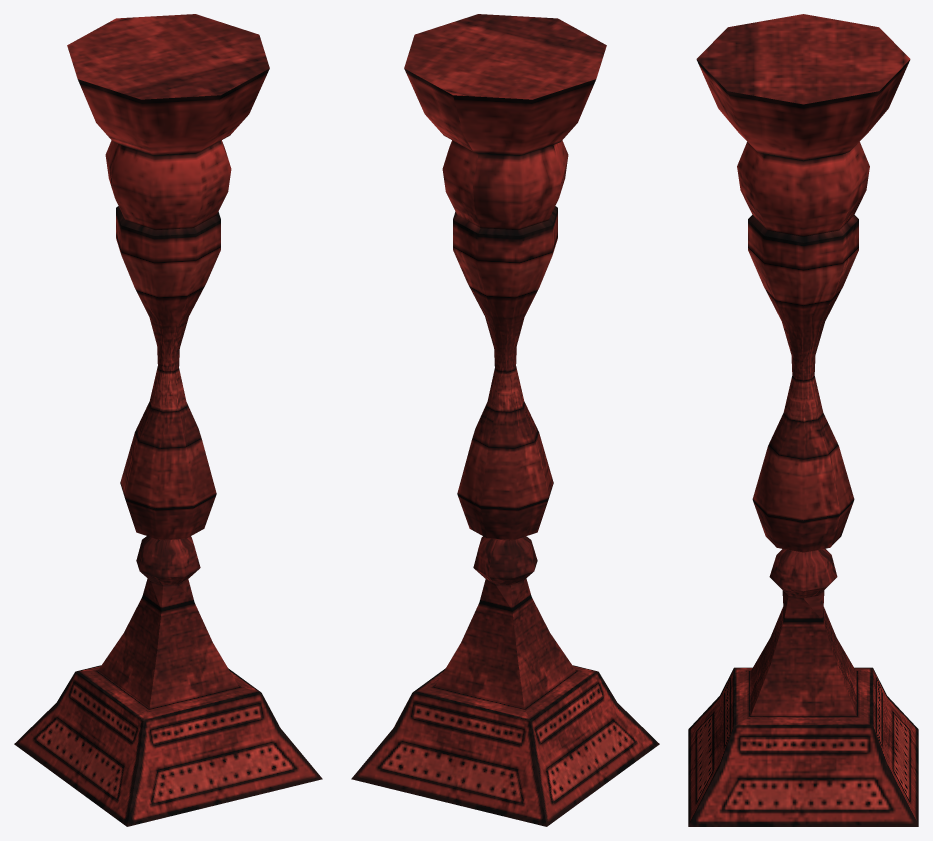
File: M_Home_Garden_Candle_holder_05.fbx
The picture shows the model from 3 angles, left to right: view 1: azimuth 30°, elevation 25°; view 2: azimuth 150°, elevation 25°; view 3: azimuth 270°, elevation 25°; orthographic projection. The views are drawn at different scales.
Visible parts, largest first — view 1: M_Home_Garden_Candle_holder_05; view 2: M_Home_Garden_Candle_holder_05; view 3: M_Home_Garden_Candle_holder_05.
Part boxes in pixels (left/top/right/bottom): M_Home_Garden_Candle_holder_05: left=14, top=14, right=322, bottom=826; M_Home_Garden_Candle_holder_05: left=351, top=14, right=659, bottom=826; M_Home_Garden_Candle_holder_05: left=688, top=14, right=918, bottom=826.
Size of the model in its own units: 15.75 by 54.16 by 15.75.
